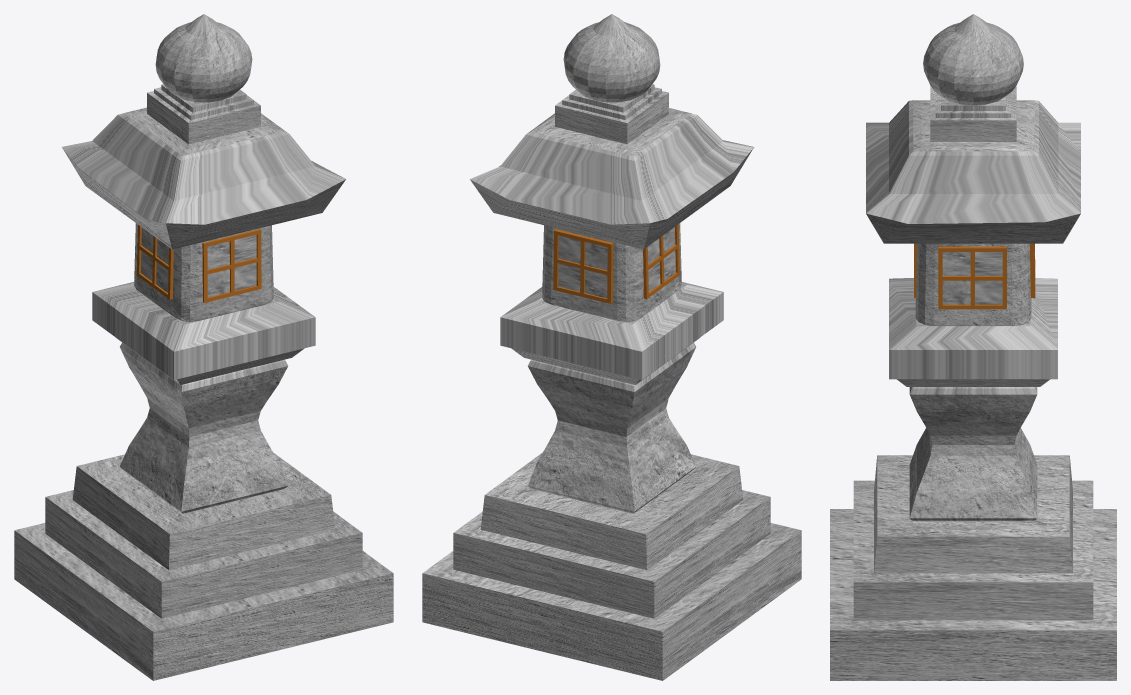
The model's file is Tourou.fbx.
3 views of the same model, side by side, from view 1: azimuth 30°, elevation 25°; view 2: azimuth 150°, elevation 25°; view 3: azimuth 270°, elevation 25° (orthographic). The views are drawn at different scales.
Parts seen in each view (by area): view 1: 立方体; view 2: 立方体; view 3: 立方体.
Boxes of the visible parts, box(x1,y1,x2,y2) form: 立方体: box(14, 14, 393, 680); 立方体: box(422, 14, 801, 680); 立方体: box(830, 14, 1116, 680).
Size of the model in its own units: 60 by 140 by 60.
Materials: 2 (1 with a texture image).
